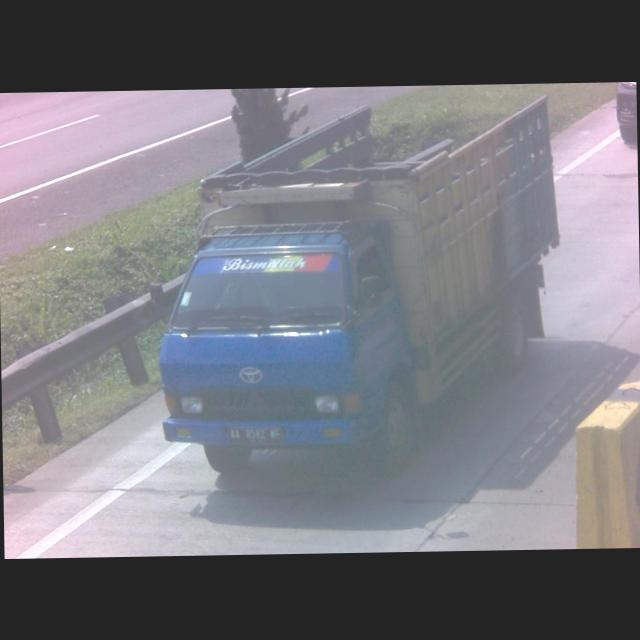plate: (226, 424, 282, 447)
